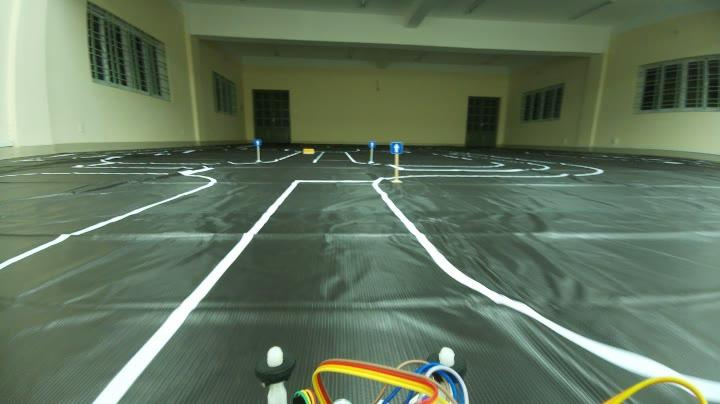onewayroad: (389, 139, 404, 156), (252, 136, 261, 148), (366, 139, 374, 146)
roadblock: (299, 146, 317, 156)
